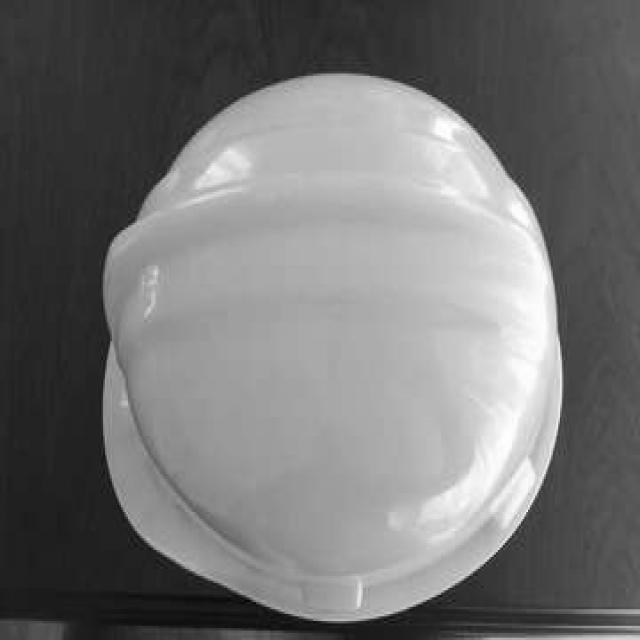safety_helmet: (101, 71, 564, 628)
